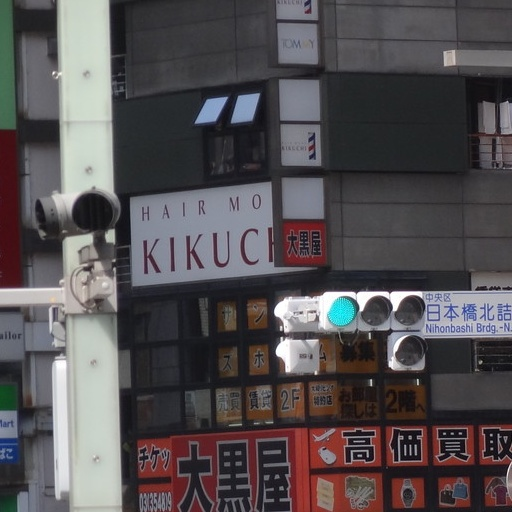Traffic_Signal_Blue: (314, 281, 429, 337)
